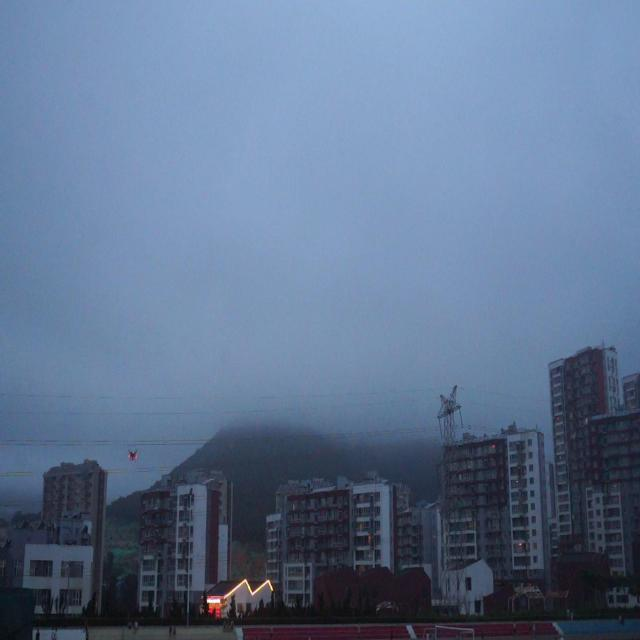UAV: (128, 448, 138, 462)
